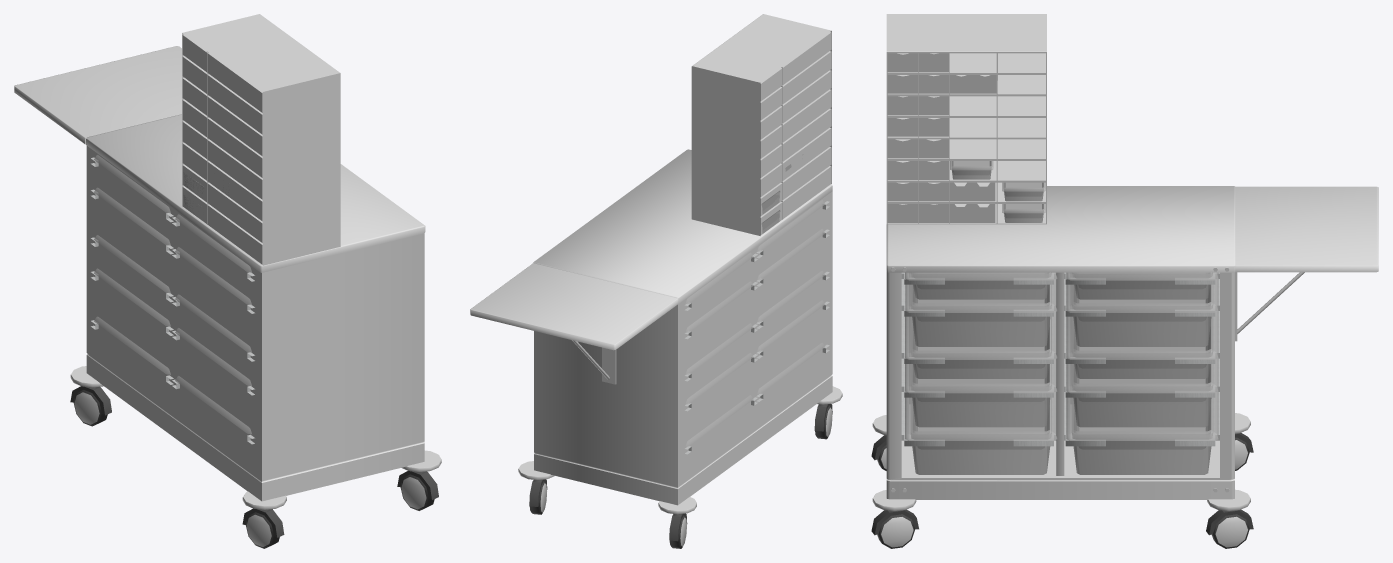
File: OR_Tray_Table.fbx
The picture shows the model from 3 angles, left to right: view 1: azimuth 30°, elevation 25°; view 2: azimuth 150°, elevation 25°; view 3: azimuth 270°, elevation 25°; orthographic projection. The views are drawn at different scales.
Parts seen in each view (by area): view 1: OR_Tray_Table, OR_Cabinet, OR_Table_Trays; view 2: OR_Tray_Table, OR_Cabinet, OR_Table_Trays; view 3: OR_Table_Trays, OR_Tray_Table, OR_Cabinet.
Part boxes in pixels (bbox=[...]): OR_Tray_Table: bbox=[14, 46, 441, 548]; OR_Cabinet: bbox=[182, 14, 340, 265]; OR_Table_Trays: bbox=[91, 154, 254, 444]; OR_Tray_Table: bbox=[470, 149, 842, 548]; OR_Cabinet: bbox=[691, 14, 831, 235]; OR_Table_Trays: bbox=[685, 200, 829, 454]; OR_Table_Trays: bbox=[901, 272, 1219, 474]; OR_Tray_Table: bbox=[871, 186, 1378, 548]; OR_Cabinet: bbox=[886, 14, 1046, 224].
Bounding box in the file's own units: 68.97 × 154 × 155.
